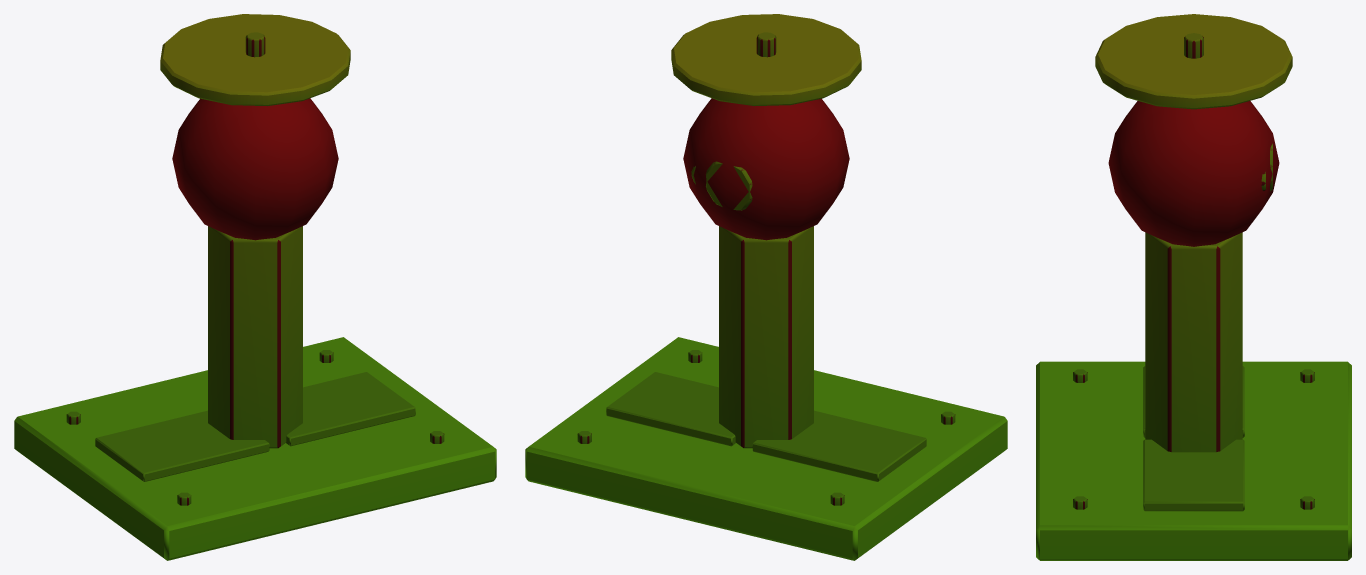
Rendered from RCLModule_command_relay_cyber_nanoweave_aps.fbx.
The picture shows the model from 3 angles, left to right: view 1: azimuth 30°, elevation 25°; view 2: azimuth 150°, elevation 25°; view 3: azimuth 270°, elevation 25°; orthographic projection. The views are drawn at different scales.
Parts seen in each view (by area): view 1: RCLModule_command_relay_cyber_nanoweave_aps_Batch_RCLModuleM (×2); view 2: RCLModule_command_relay_cyber_nanoweave_aps_Batch_RCLModuleM (×3); view 3: RCLModule_command_relay_cyber_nanoweave_aps_Batch_RCLModuleM (×3).
Part boxes in pixels (box(x1,y1,x2,y2)): RCLModule_command_relay_cyber_nanoweave_aps_Batch_RCLModuleM (×2): box(14, 14, 496, 560); RCLModule_command_relay_cyber_nanoweave_aps_Batch_RCLModuleM (×3): box(525, 14, 1007, 560); RCLModule_command_relay_cyber_nanoweave_aps_Batch_RCLModuleM (×3): box(1036, 14, 1351, 560).
Size of the model in its own units: 30 by 37.13 by 24.
